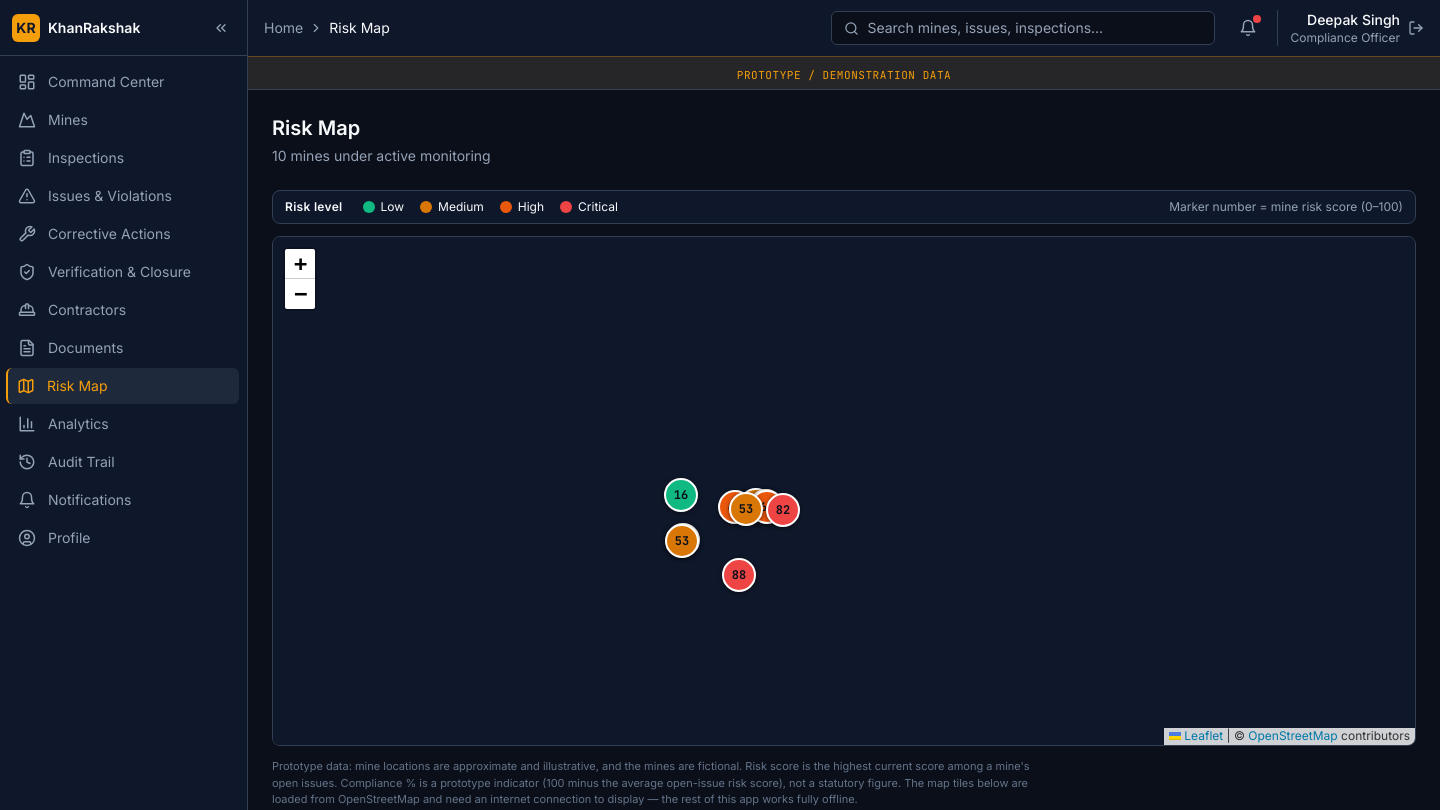
Scenario: Risk Map — all mines (Compliance Officer) › "View Mine" navigates to the existing Mine Detail page
Click the button with class "leaflet-marker-icon" showing "88".
click(739, 575)  # box x1=722 y1=558 x2=756 y2=592
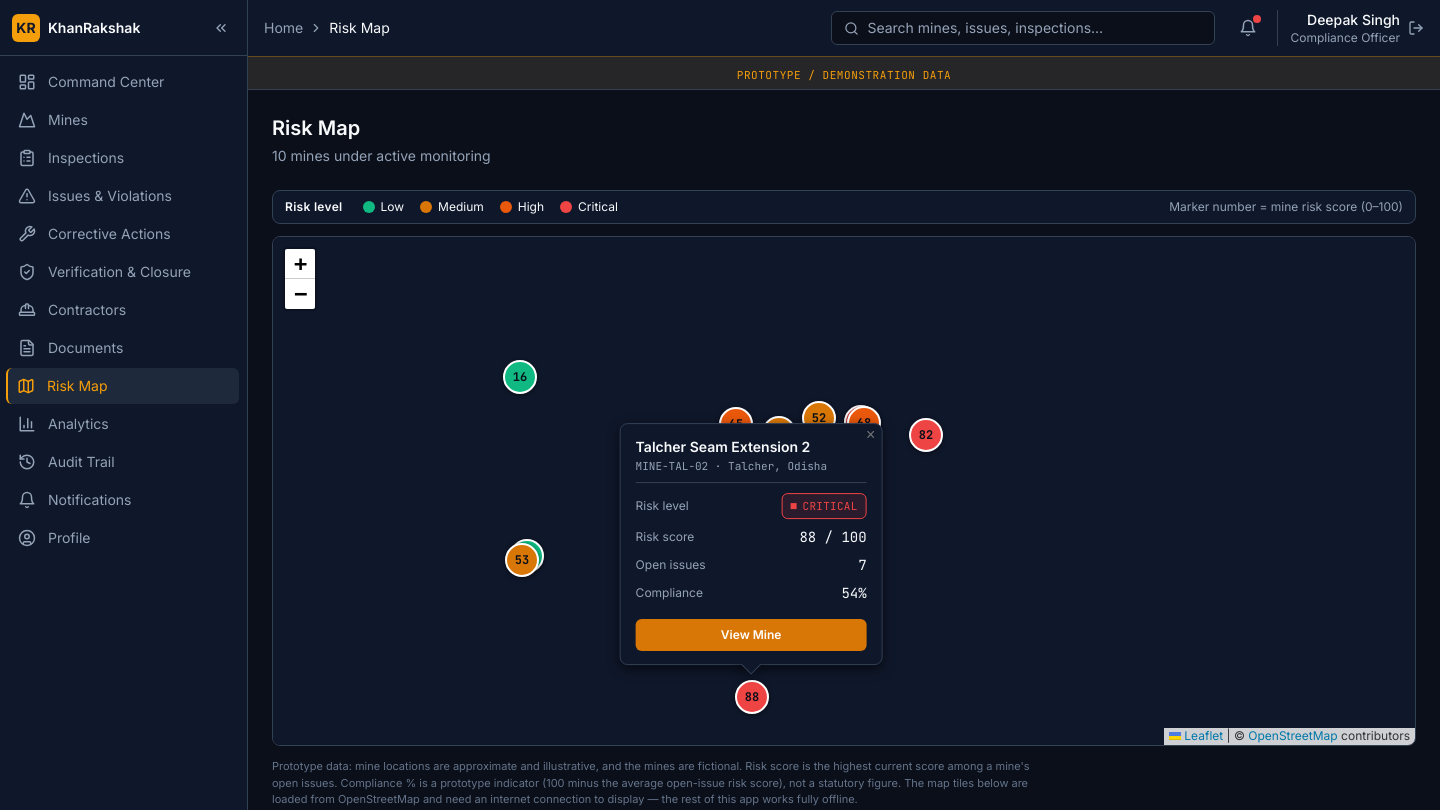
Click the button "View Mine".
click(751, 635)  # box x1=636 y1=619 x2=867 y2=651
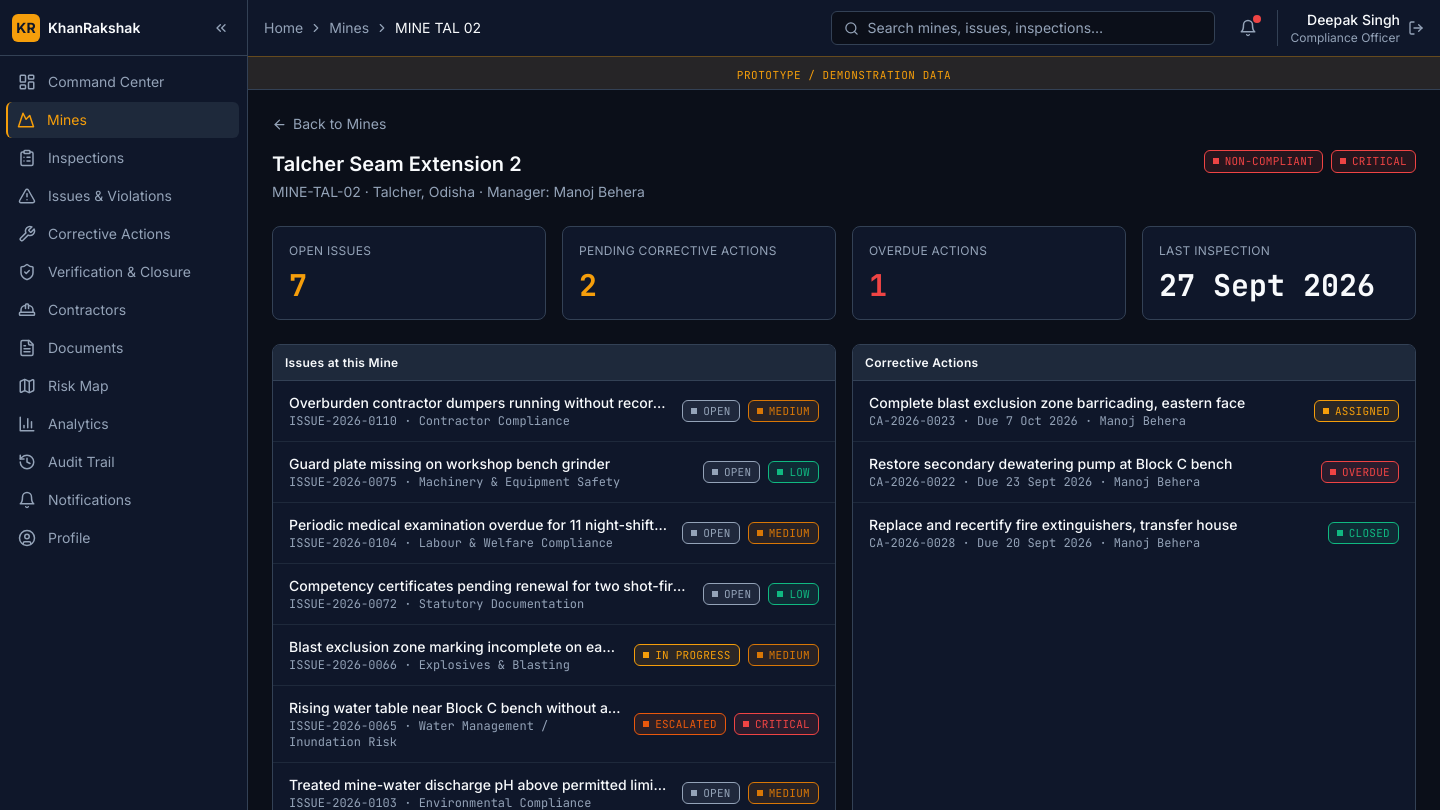
Result: the heading "Talcher Seam Extension 2" is shown at x1=272 y1=152 x2=522 y2=176
Result: the button "Back to Mines" is shown at x1=272 y1=114 x2=386 y2=134
Result: the text "MINE-TAL-02 · Talcher, Odisha · Manager: Manoj Behera" is shown at x1=272 y1=182 x2=645 y2=202
